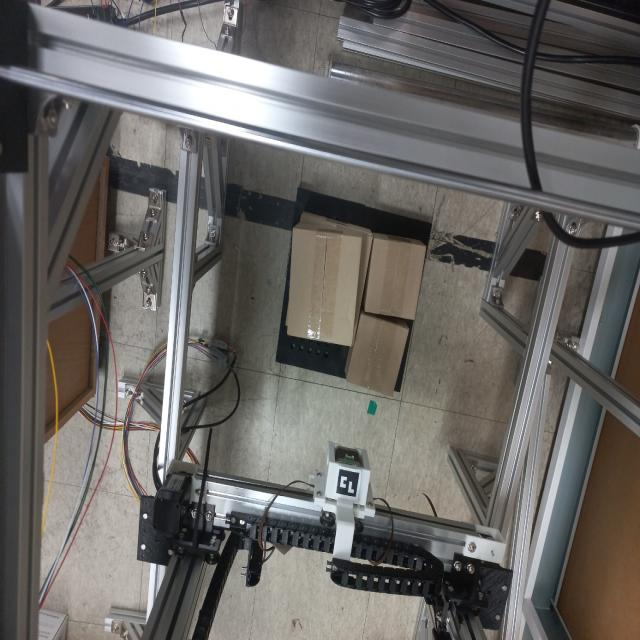box: (284, 220, 364, 350), (360, 229, 429, 325), (343, 308, 412, 402)
